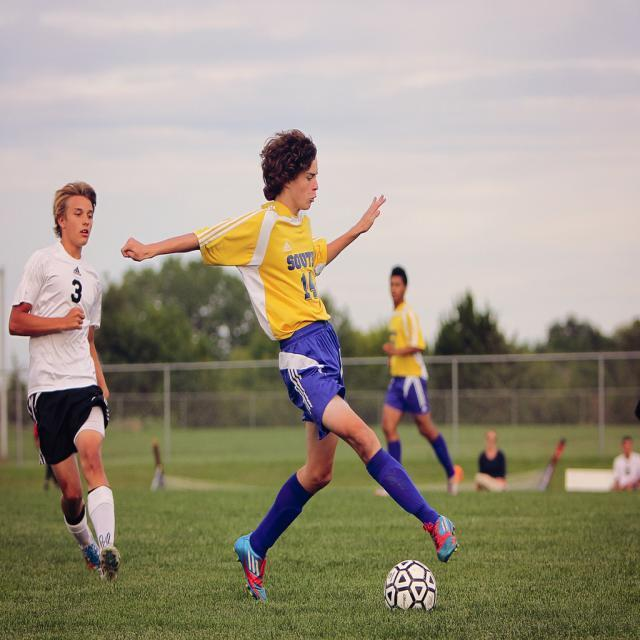football: (384, 553, 464, 619)
